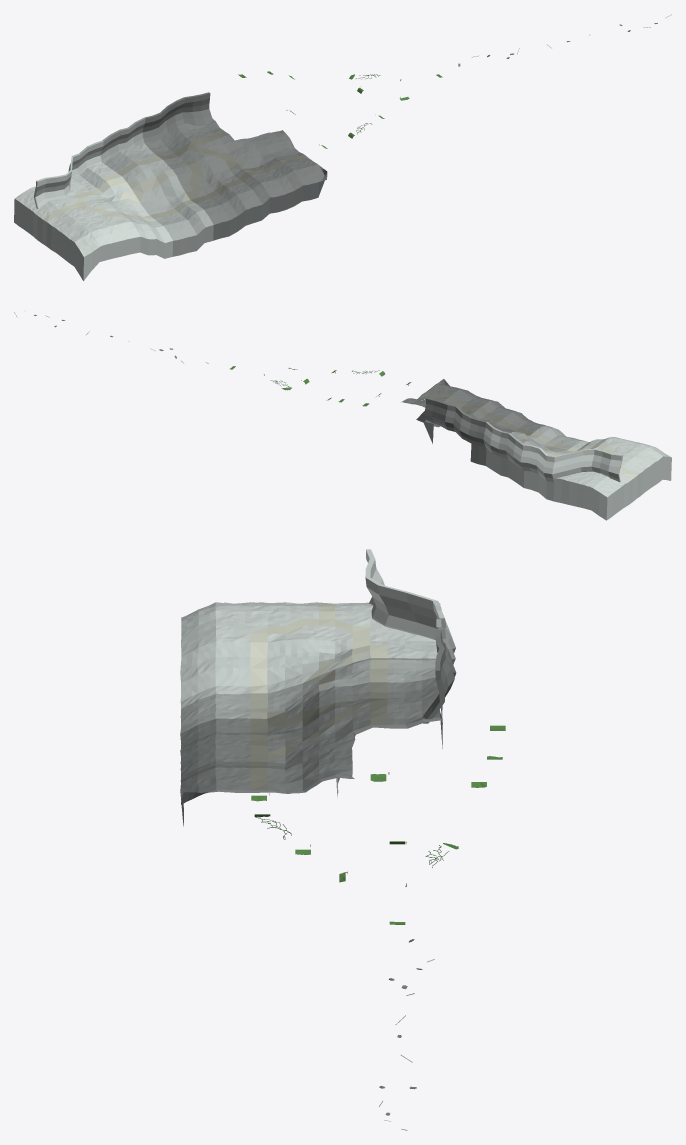
File: 비탄의바다_추가수정3.fbx
The picture shows the model from 3 angles, top to bottom: view 1: azimuth 30°, elevation 25°; view 2: azimuth 150°, elevation 25°; view 3: azimuth 270°, elevation 25°; orthographic projection. The views are drawn at different scales.
Visible parts, largest first — view 1: 2_동굴_바닥_전체, 2_동굴_큰벽; view 2: 2_동굴_바닥_전체, 2_동굴_큰벽; view 3: 2_동굴_바닥_전체, 2_동굴_큰벽, 2_동굴_바닥_Cube.011.
Part boxes in pixels (x1=…): 2_동굴_바닥_전체: x1=14, y1=119, x2=327, y2=280; 2_동굴_큰벽: x1=34, y1=92, x2=212, y2=208; 2_동굴_바닥_전체: x1=402, y1=379, x2=671, y2=520; 2_동굴_큰벽: x1=424, y1=397, x2=622, y2=482; 2_동굴_바닥_전체: x1=180, y1=602, x2=442, y2=826; 2_동굴_큰벽: x1=365, y1=549, x2=456, y2=723; 2_동굴_바닥_Cube.011: x1=250, y1=633, x2=268, y2=700.
Size of the model in its own units: 32413 by 138742 by 18739.
